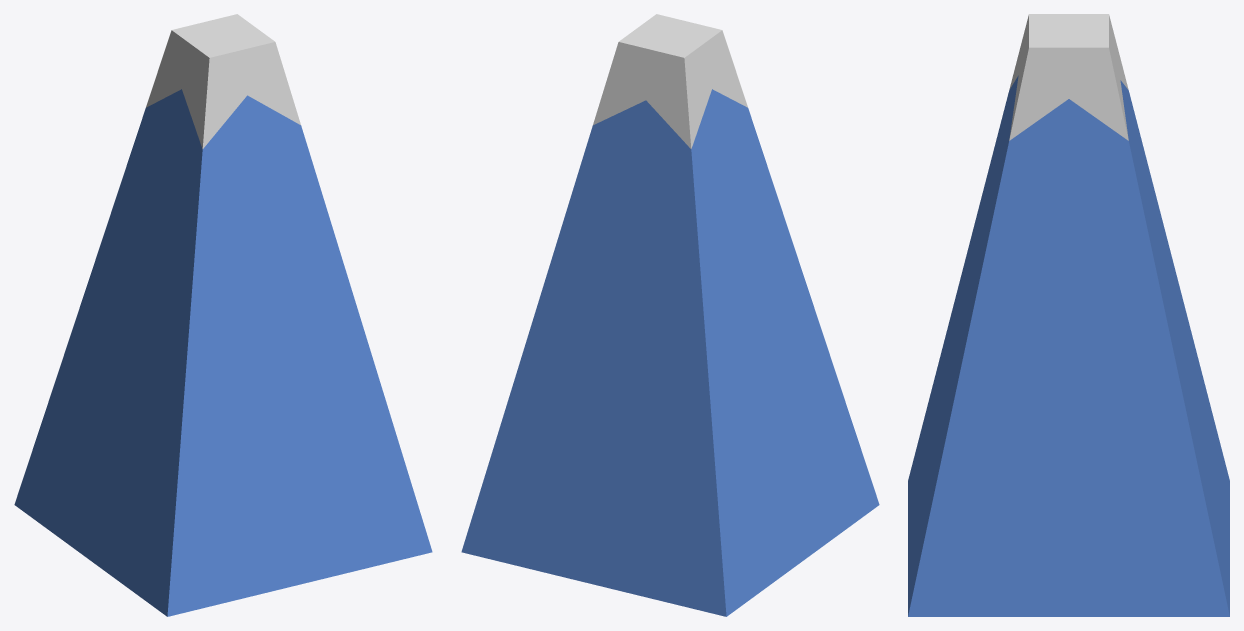
The model's file is mountain.fbx.
3 renders of one model, left to right at view 1: azimuth 30°, elevation 25°; view 2: azimuth 150°, elevation 25°; view 3: azimuth 270°, elevation 25°, orthographic. The views are drawn at different scales.
Parts seen in each view (by area): view 1: Cube; view 2: Cube; view 3: Cube.
Part boxes in pixels (x1,y1,x2,y2): Cube: [14, 14, 432, 616]; Cube: [461, 14, 879, 616]; Cube: [908, 14, 1229, 616].
Bounding box in the file's own units: 805 × 1429 × 805.
